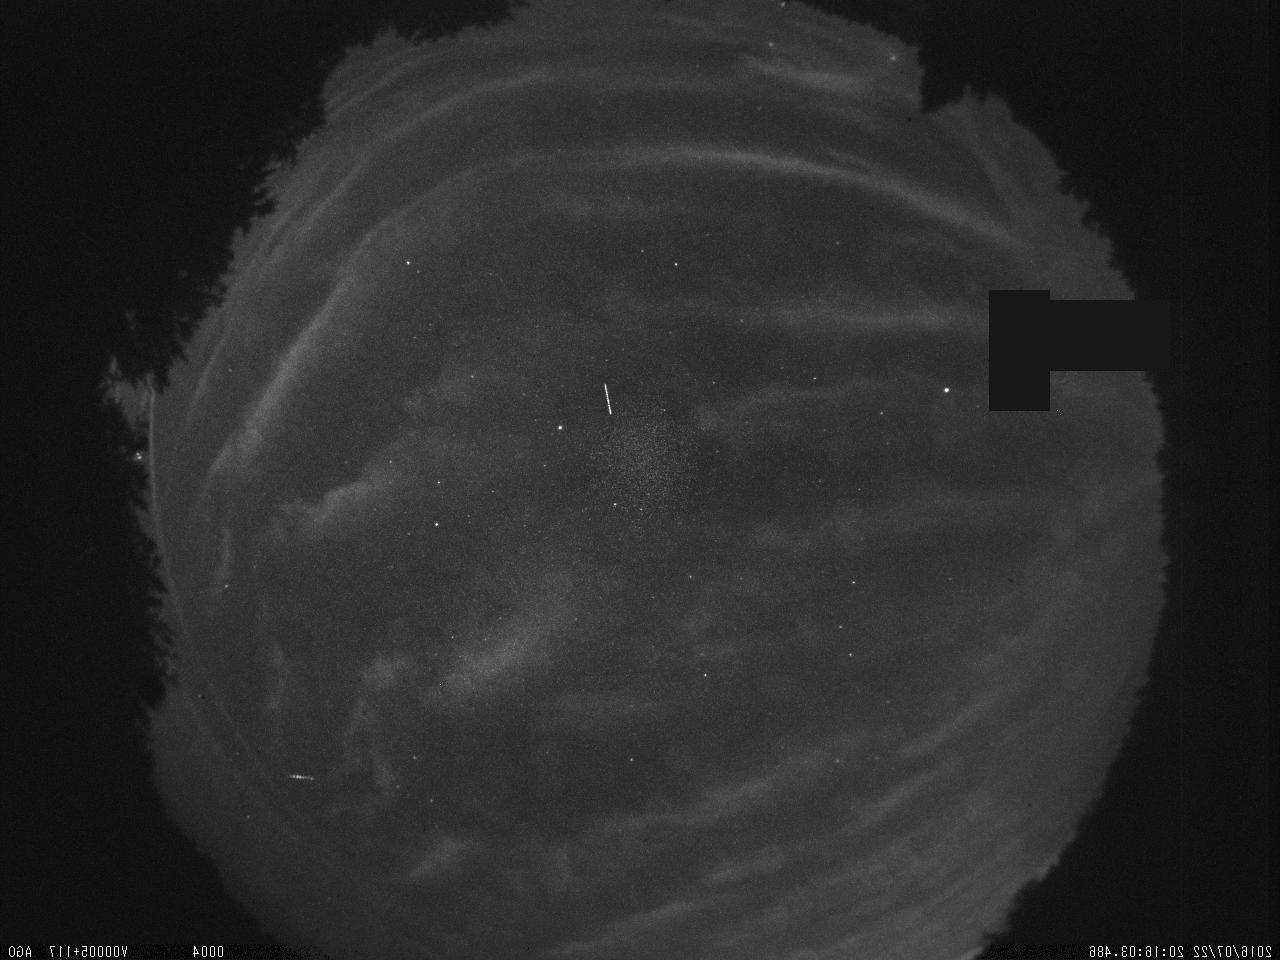meteor: (281, 765, 322, 787)
satelite: (596, 375, 622, 424)
